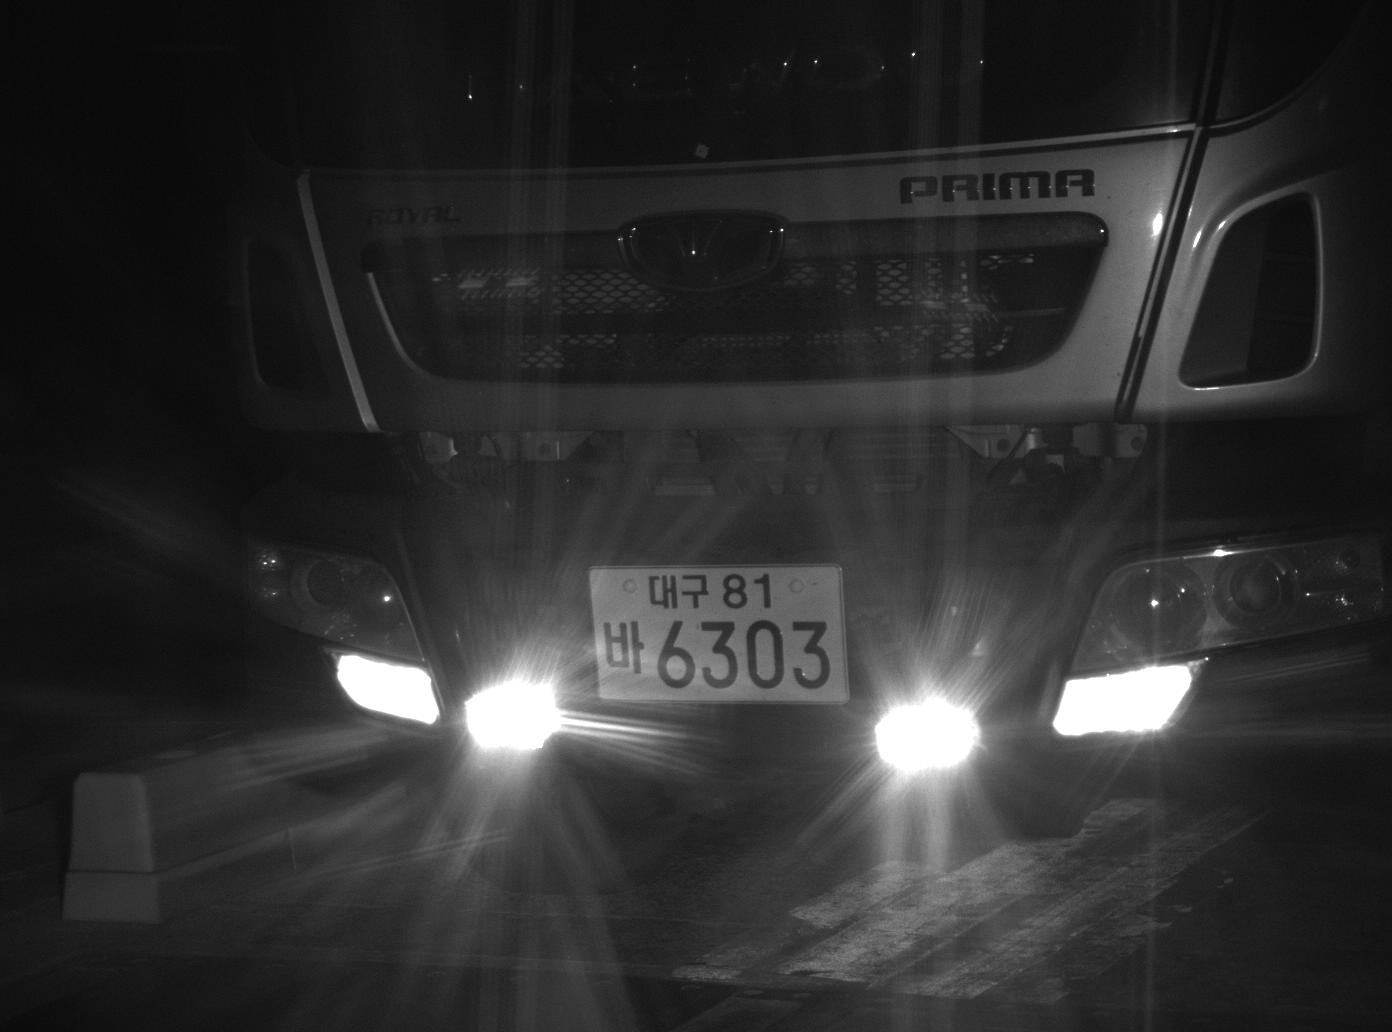car: (207, 1, 1384, 813)
plate: (584, 562, 848, 704)
